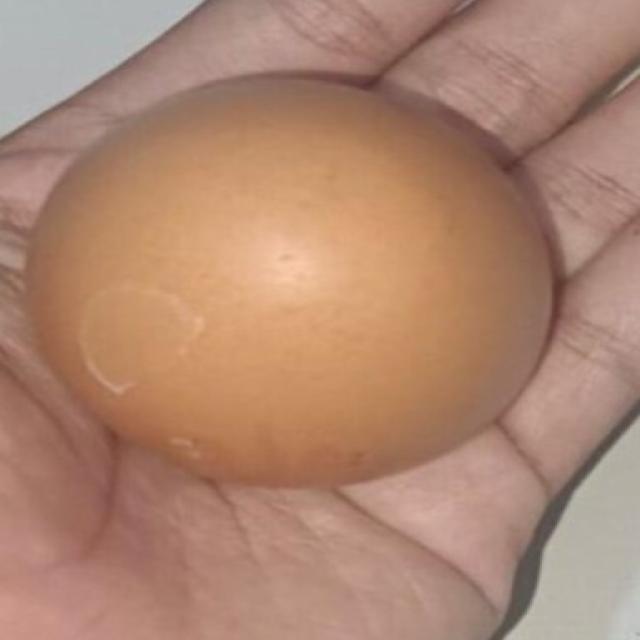fresh: (26, 78, 560, 475)
